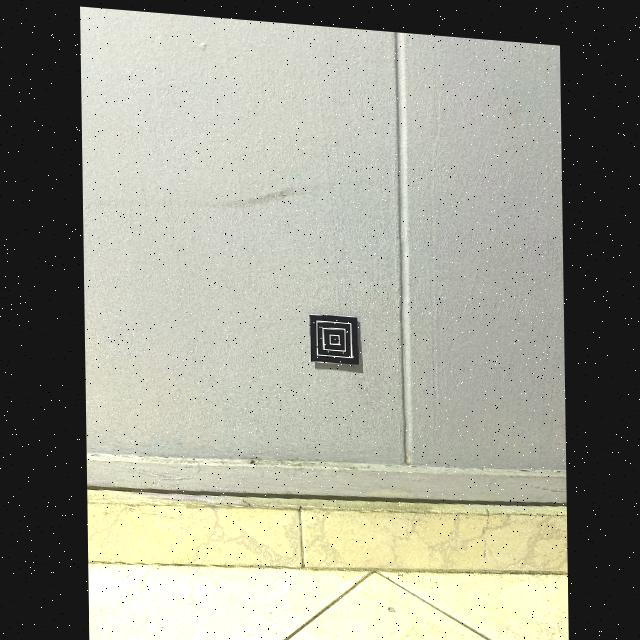BULLSEYE: (309, 310, 358, 360)
